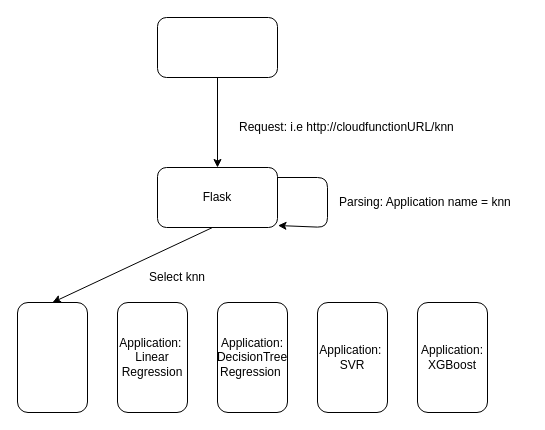
Some shapes in this 545 by 430 pixel diagram are drawn without their labels. The centre of each missing label's shape, as x and y in pixels:
"Application: knn Regression" belongs at (52,357).
"Client" belongs at (217,47).
